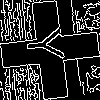Y: (25, 25, 74, 64)
